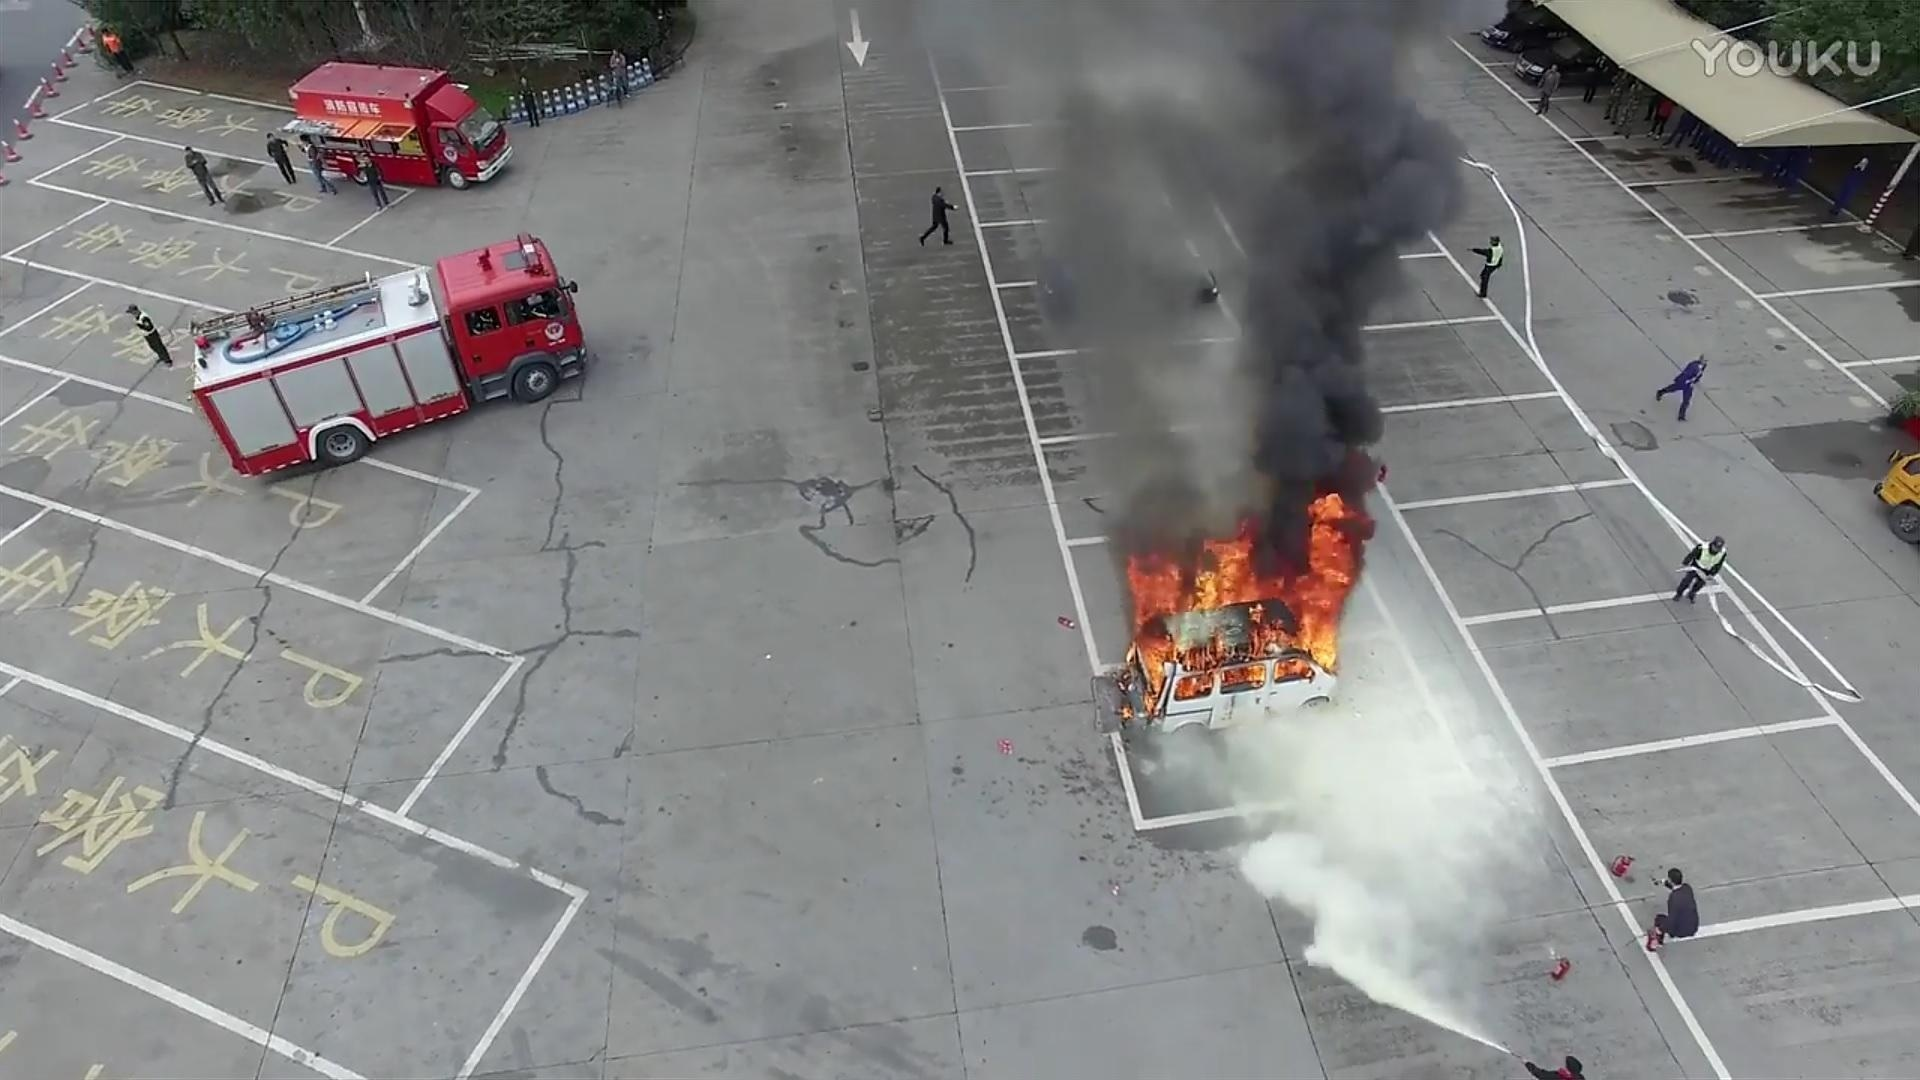fire: (1112, 491, 1366, 707)
